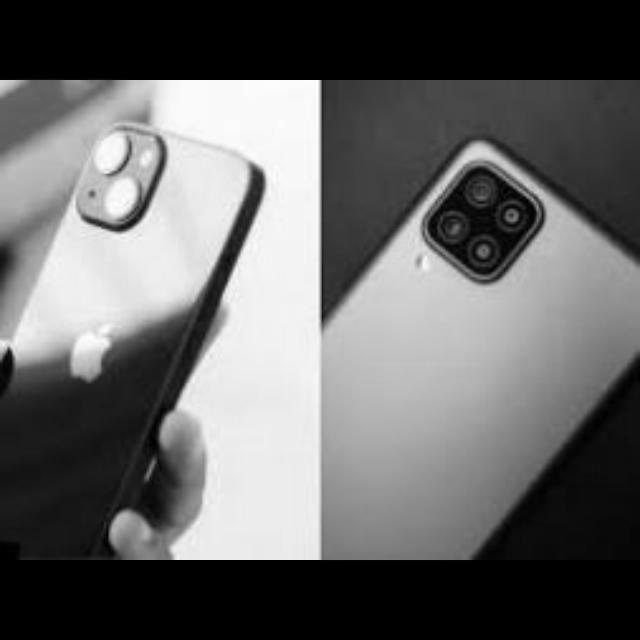fake: (323, 130, 640, 560), (6, 86, 294, 556)
